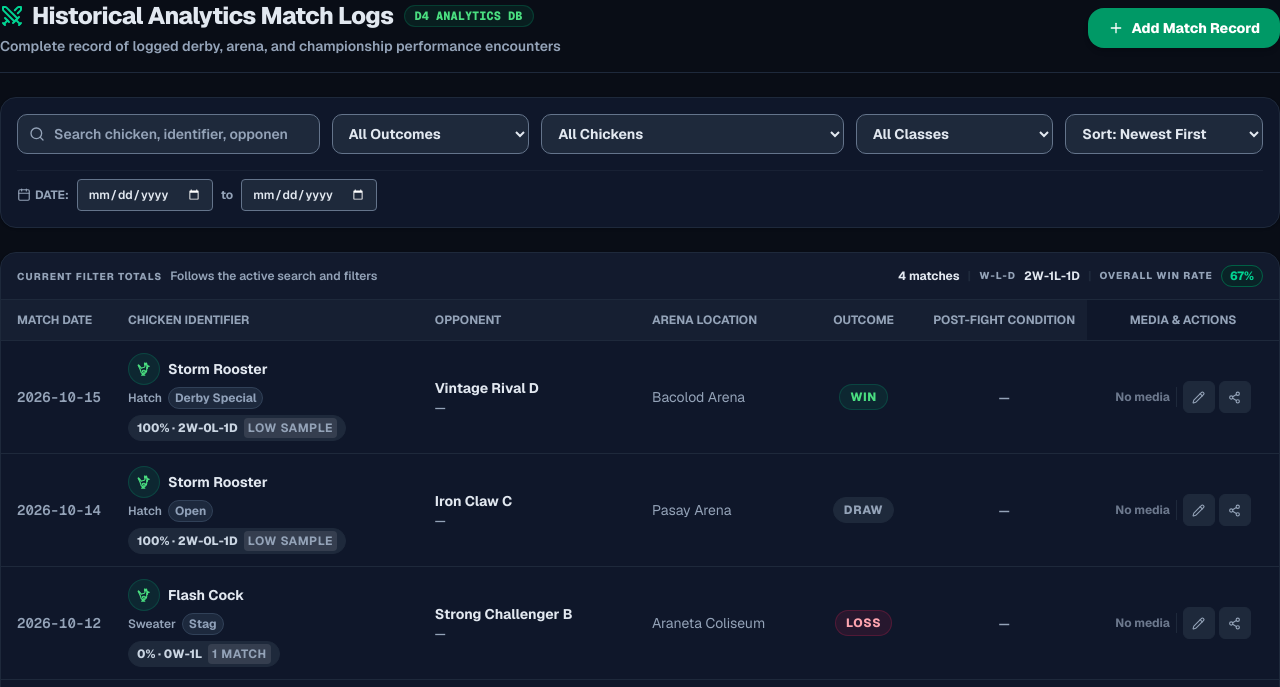
Test: MatchLogsView › displays empty state with clear filters button when no records match
Type "NonexistentMatchQueryXYZ" into the field with placeholder "Search chicken, identifier, opponent..." at [168, 134], box [17,114,320,154]
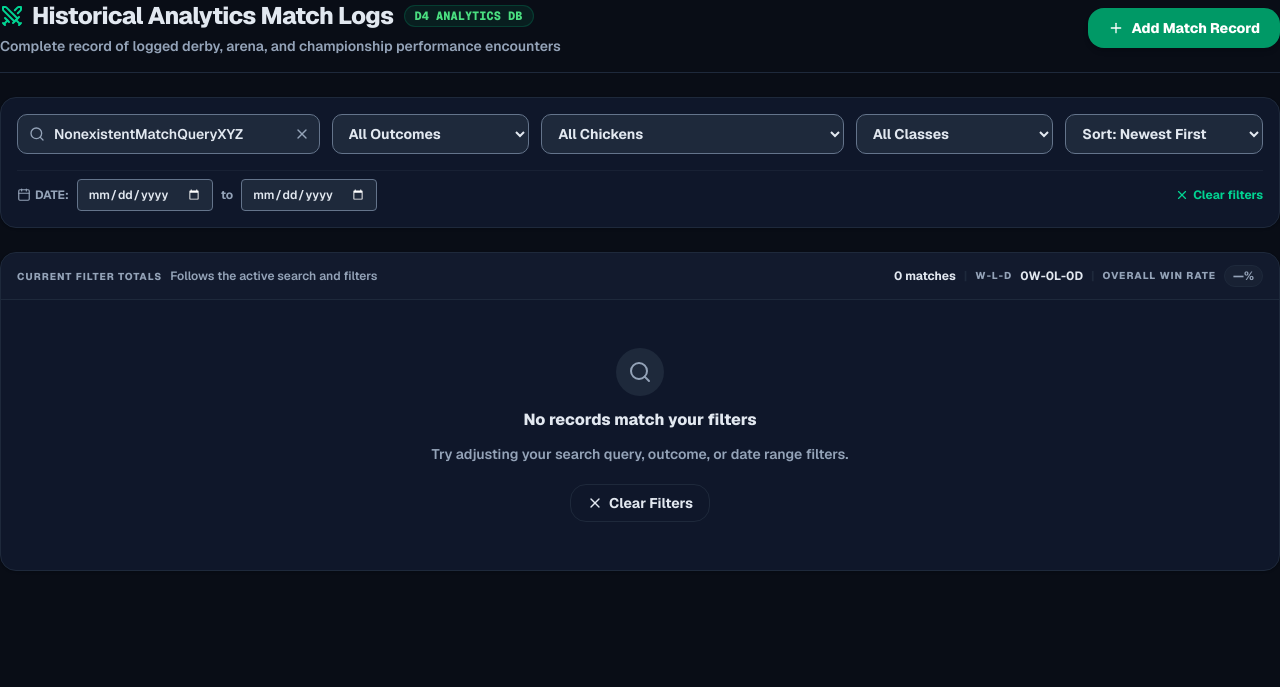
Expected: the heading "No records match your filters" is shown, [523,409,757,430]
Expected: the button "Clear filters" is shown
Click the button "Clear filters" at [1219, 195], box [1175,187,1263,203]
(page scrolled)
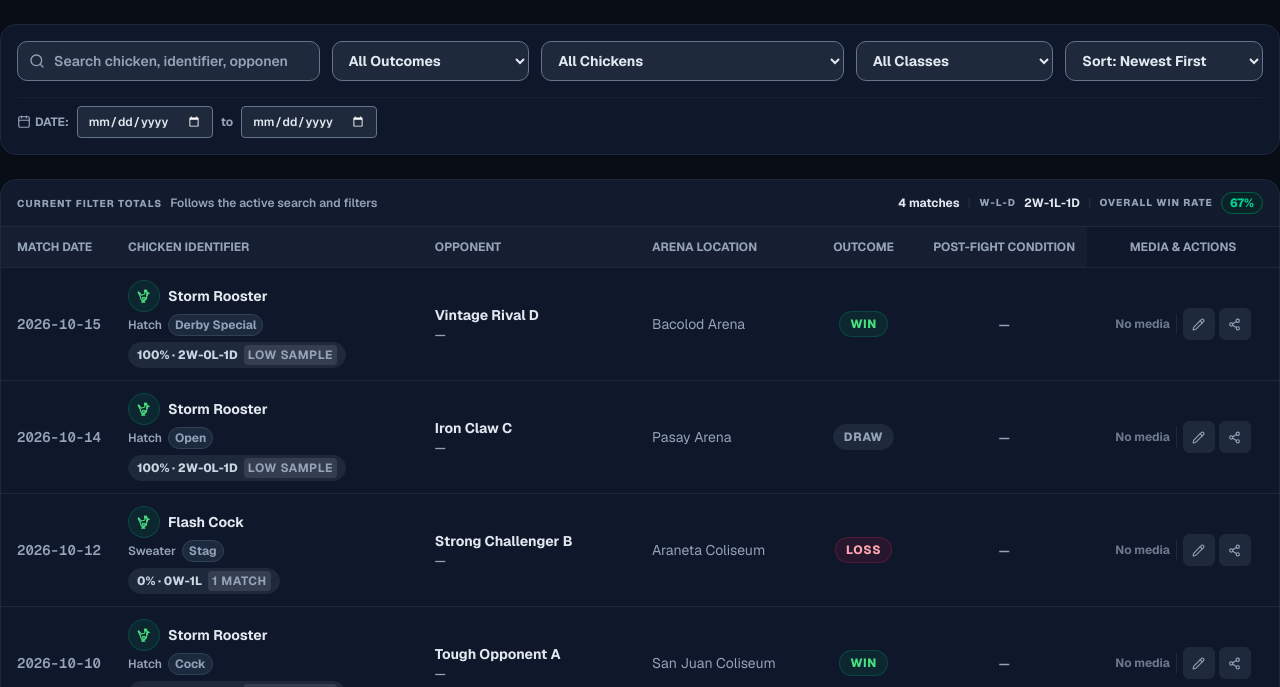
Expected: the text "Tough Opponent A" is shown, [435,644,561,664]
